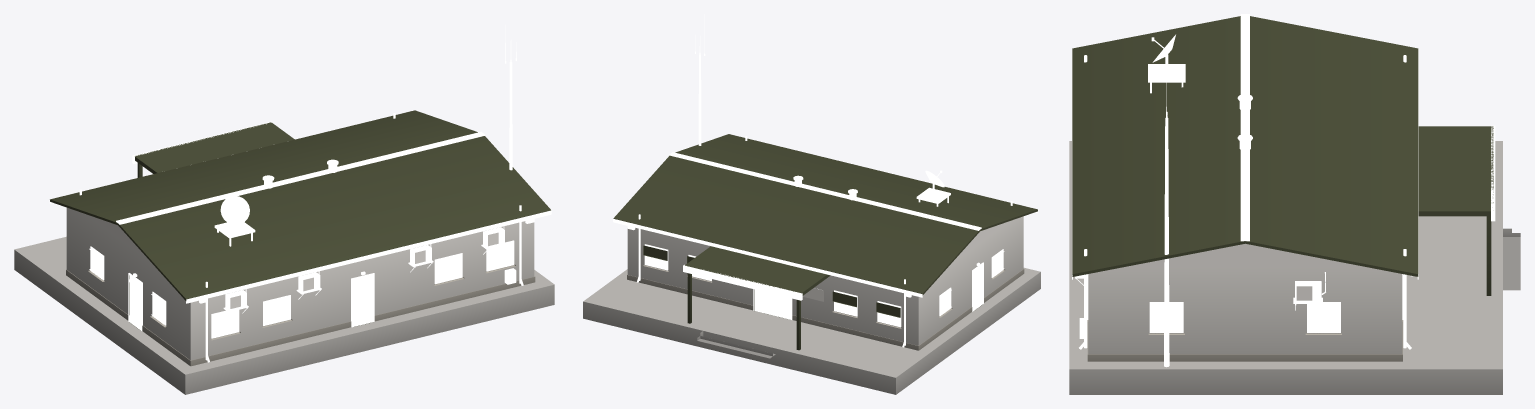
File: hq_building.glb
The picture shows the model from 3 angles, left to right: view 1: azimuth 30°, elevation 25°; view 2: azimuth 150°, elevation 25°; view 3: azimuth 270°, elevation 25°; orthographic projection. The views are drawn at different scales.
Visible parts, largest first — view 1: hq_building_LOD0; view 2: hq_building_LOD0; view 3: hq_building_LOD0.
Part boxes in pixels (bbox=[...]): hq_building_LOD0: bbox=[14, 25, 554, 394]; hq_building_LOD0: bbox=[583, 14, 1040, 394]; hq_building_LOD0: bbox=[1069, 14, 1520, 394].
Size of what is drawn, in the model's own units: 17.23 by 11.8 by 14.36.
